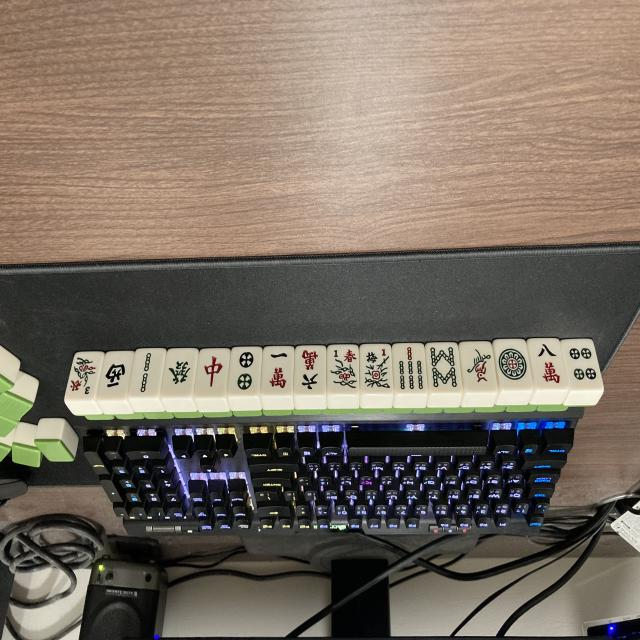1B: (463, 343, 497, 392)
1C: (262, 347, 295, 395)
1D: (496, 341, 532, 389)
1F: (361, 344, 394, 394)
1S: (328, 345, 360, 394)
2B: (132, 352, 164, 398)
2D: (229, 348, 263, 397)
3S: (66, 354, 100, 400)
4D: (564, 341, 602, 389)
6C: (296, 346, 328, 395)
7B: (394, 343, 428, 393)
8B: (429, 344, 463, 392)
8C: (529, 339, 566, 389)
GD: (163, 351, 198, 398)
RD: (195, 349, 230, 397)
WW: (100, 352, 132, 398)
